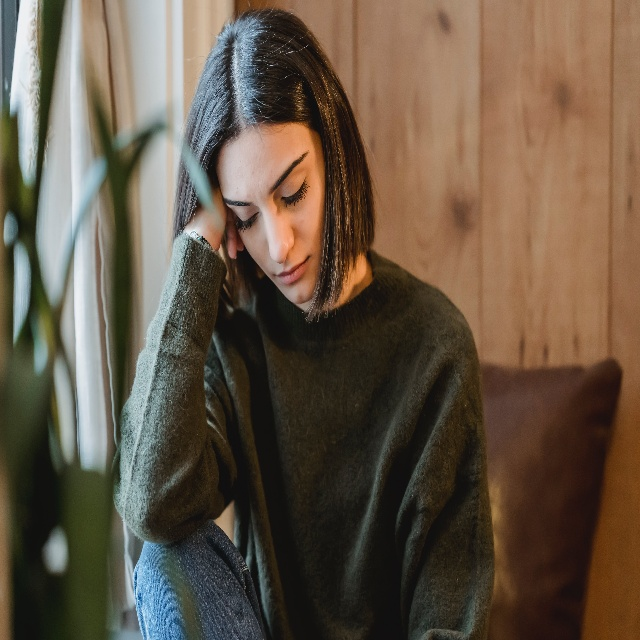Sin_guantes: (188, 193, 245, 262)
